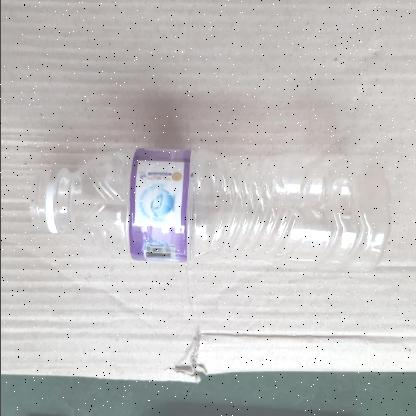Plastic Bottle: (27, 146, 390, 274)
